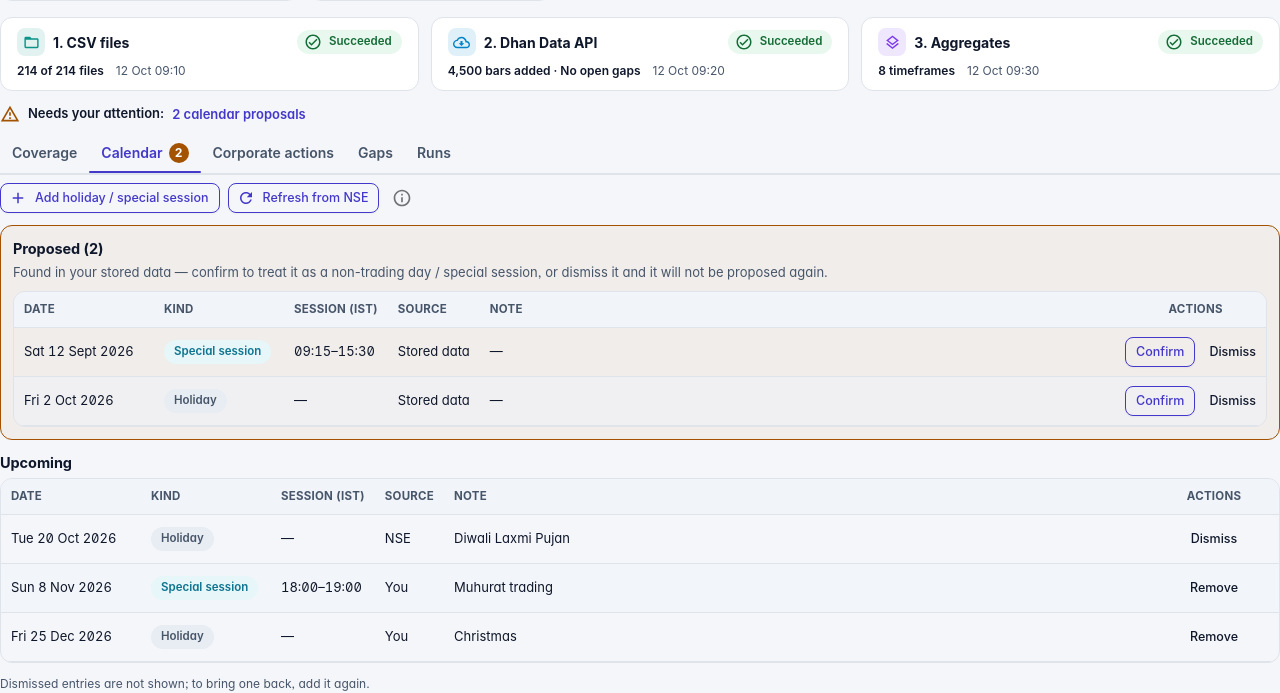
Test: Trading calendar: remove and dismiss › asks before removing the owner’s own day, and Cancel changes nothing
(page scrolled)
Click the button with aria-label "Remove Fri 25 Dec 2026" at [1214, 637], box [1180,622,1248,652]
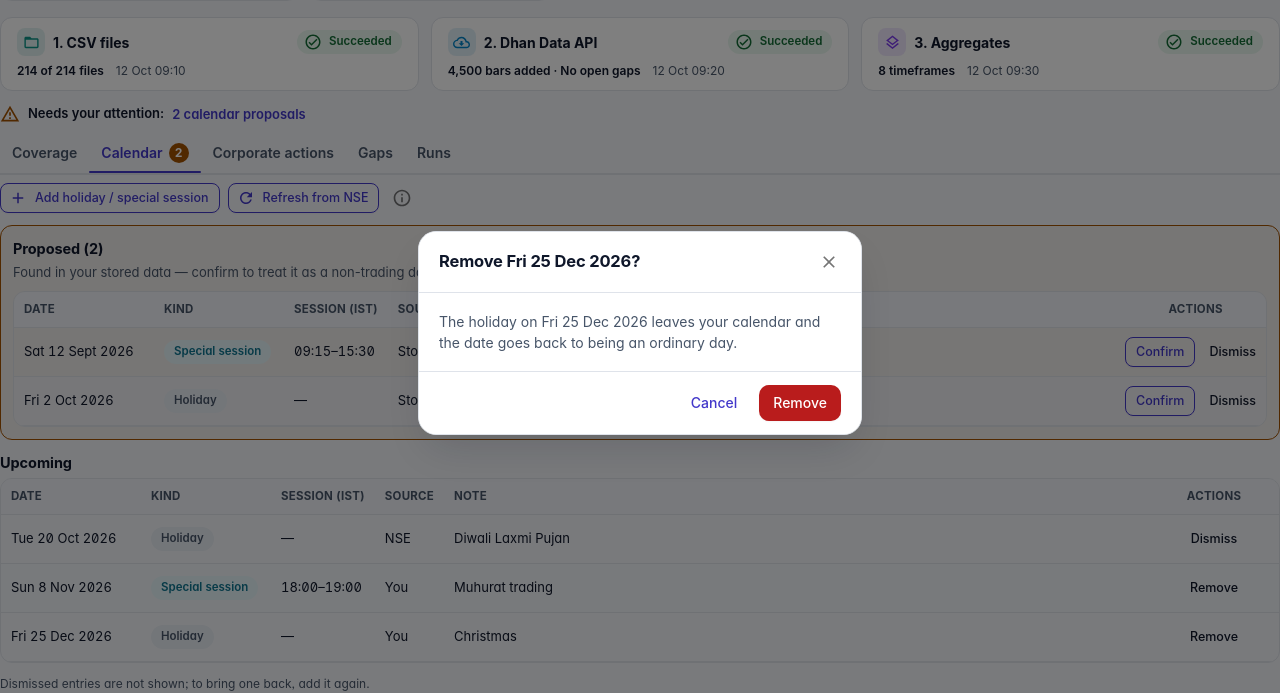
Now the text "leaves your calendar and the date goes back to being an ordinary day" is shown, box [439,313,820,351]
Click the button "Cancel" at [714, 403], box [677,385,751,421]
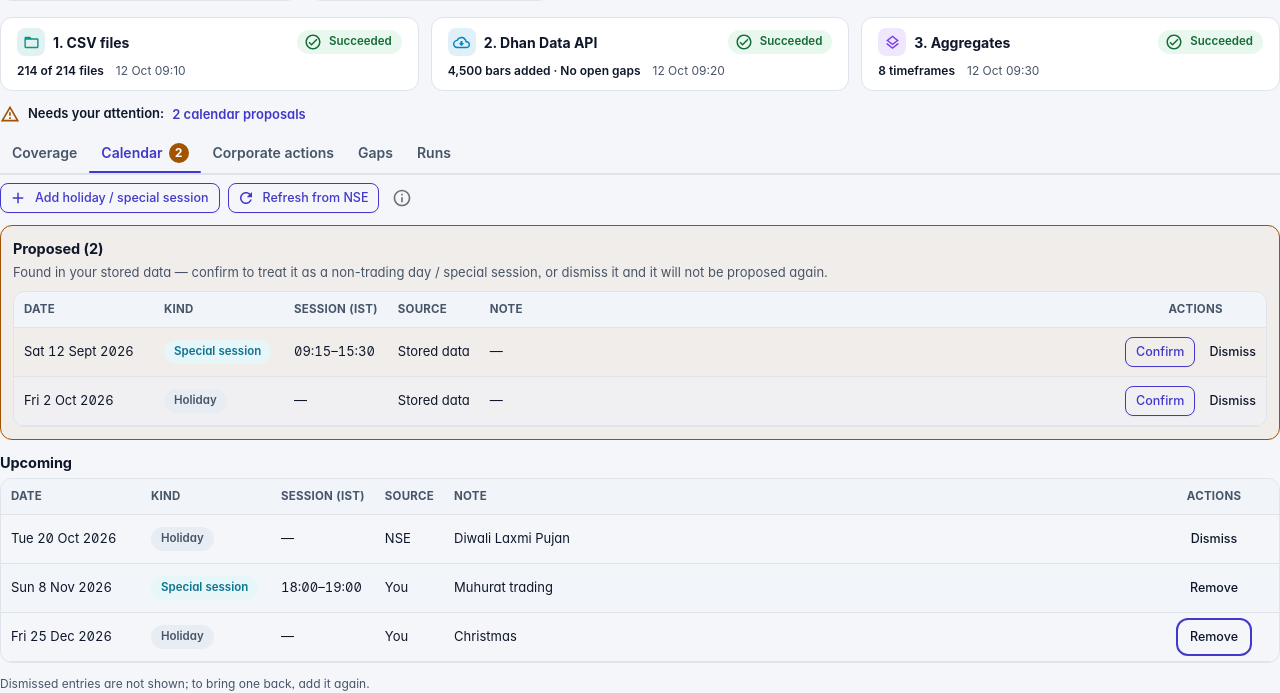
Expected: the text "Fri 25 Dec 2026" is shown, [11,628,112,644]
Now the dialog is gone
